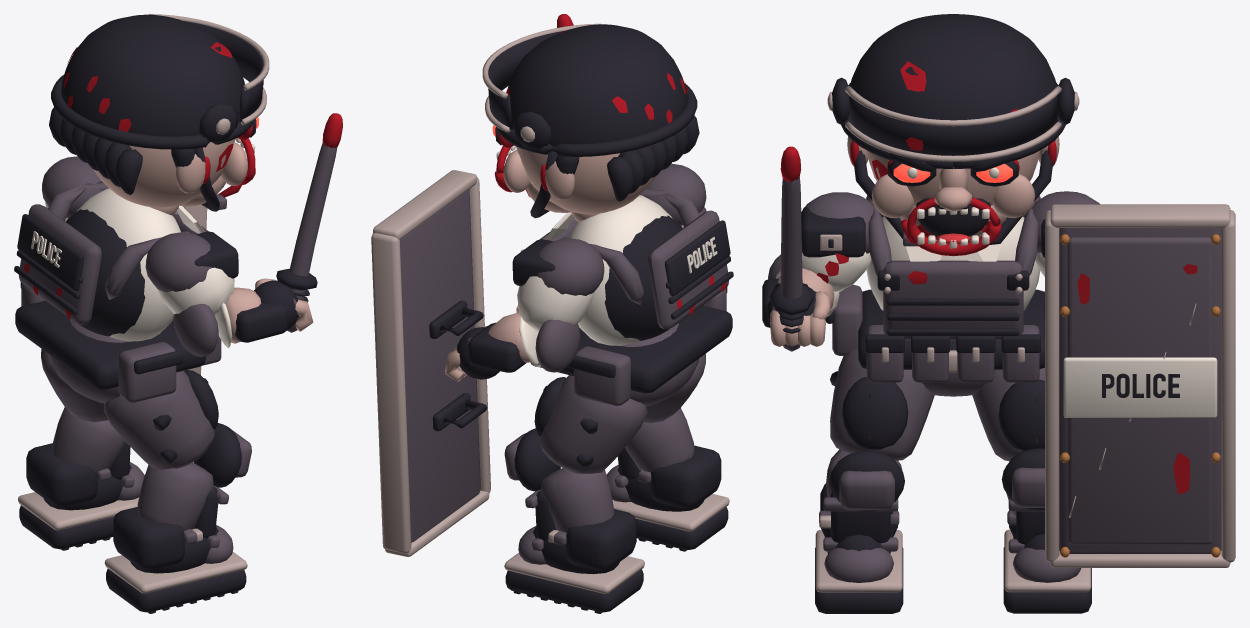
3 renders of one model, left to right at view 1: azimuth 30°, elevation 25°; view 2: azimuth 150°, elevation 25°; view 3: azimuth 270°, elevation 25°, orthographic. The views are drawn at different scales.
Parts seen in each view (by area): view 1: head__pal_uiDark, torso__pal_uiDark, footR__pal_uiDark, hip__pal_uiDark, legR__pal_asphalt, footL__pal_uiDark, torso__pal_asphalt, torso__pal_picketWhite, head__pal_infectedSkin, shinR__pal_asphalt, hip__pal_asphalt, shinL__pal_asphalt (+22 smaller); view 2: head__pal_uiDark, shield__pal_asphalt, shield__pal_sidewalk, torso__pal_uiDark, footL__pal_uiDark, legL__pal_asphalt, footR__pal_uiDark, hip__pal_uiDark, torso__pal_asphalt, head__pal_infectedSkin, torso__pal_picketWhite, shinL__pal_asphalt (+21 smaller); view 3: shield__pal_asphalt, head__pal_uiDark, shield__pal_sidewalk, torso__pal_asphalt, shield__pal_picketWhite, hip__pal_asphalt, head__pal_infectedSkin, hip__pal_uiDark, legR__pal_uiDark, torso__pal_uiDark, legR__pal_asphalt, head__pal_sidewalk (+27 smaller).
Boxes of the visible parts, <box> form: head__pal_uiDark: <box>49,14,263,211</box>; torso__pal_uiDark: <box>14,209,145,336</box>; footR__pal_uiDark: <box>106,507,246,613</box>; hip__pal_uiDark: <box>15,282,205,389</box>; legR__pal_asphalt: <box>103,371,214,469</box>; footL__pal_uiDark: <box>19,443,131,550</box>; torso__pal_asphalt: <box>19,181,208,324</box>; torso__pal_picketWhite: <box>31,188,204,341</box>; head__pal_infectedSkin: <box>93,138,247,215</box>; shinR__pal_asphalt: <box>137,431,251,547</box>; hip__pal_asphalt: <box>21,283,221,403</box>; shinL__pal_asphalt: <box>51,407,134,487</box>; head__pal_uiDark: <box>488,24,699,218</box>; shield__pal_asphalt: <box>400,189,480,542</box>; shield__pal_sidewalk: <box>371,170,490,556</box>; torso__pal_uiDark: <box>604,215,733,340</box>; footL__pal_uiDark: <box>505,509,643,613</box>; legL__pal_asphalt: <box>539,375,647,473</box>; footR__pal_uiDark: <box>617,445,728,551</box>; hip__pal_uiDark: <box>557,287,732,393</box>; torso__pal_asphalt: <box>539,188,728,329</box>; head__pal_infectedSkin: <box>503,145,655,221</box>; torso__pal_picketWhite: <box>545,195,717,345</box>; shinL__pal_asphalt: <box>504,433,614,550</box>; shield__pal_asphalt: <box>1059,228,1221,553</box>; head__pal_uiDark: <box>832,14,1074,244</box>; shield__pal_sidewalk: <box>1045,204,1235,567</box>; torso__pal_asphalt: <box>866,195,1040,340</box>; shield__pal_picketWhite: <box>1063,357,1217,417</box>; hip__pal_asphalt: <box>832,285,1044,396</box>; head__pal_infectedSkin: <box>847,136,1059,241</box>; hip__pal_uiDark: <box>825,289,1044,369</box>; legR__pal_uiDark: <box>830,371,908,449</box>; torso__pal_uiDark: <box>877,270,1029,335</box>; legR__pal_asphalt: <box>830,349,934,460</box>; head__pal_sidewalk: <box>827,86,1079,161</box>.
Size of what is drawn, in the model's own units: 0.7025 by 1.58 by 1.18.
